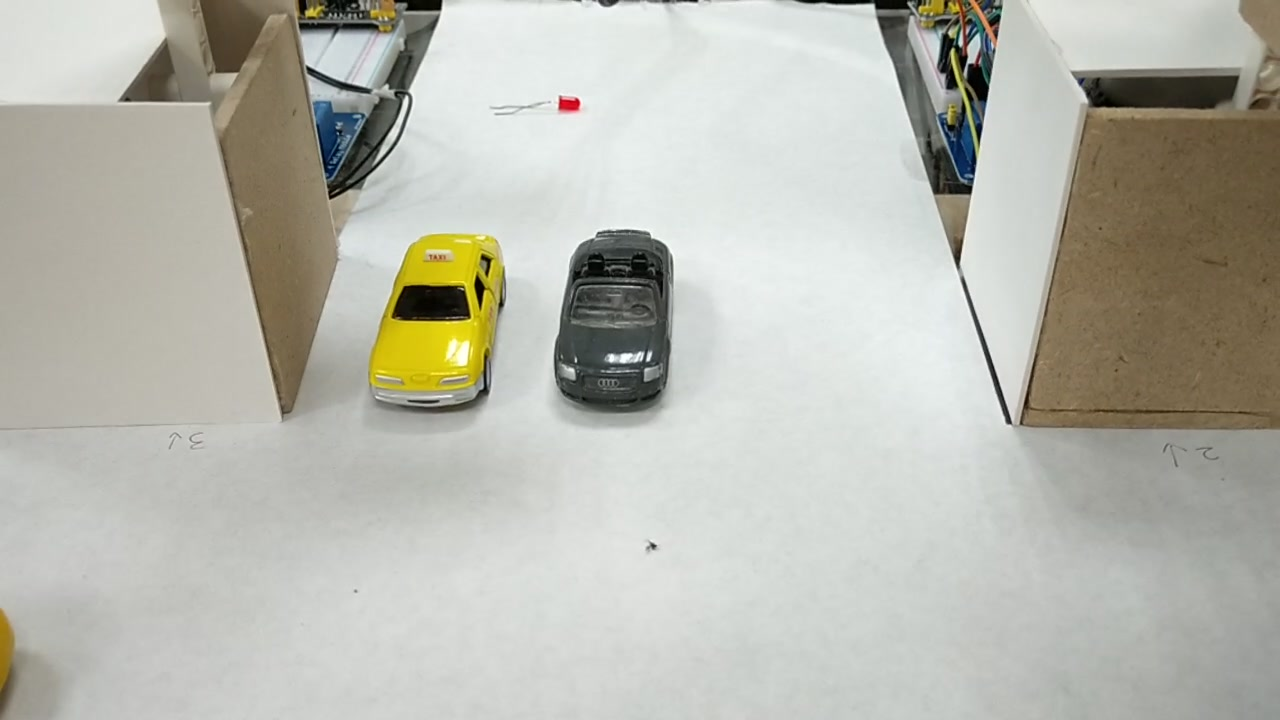car: (371, 234, 508, 411), (552, 241, 675, 401)
